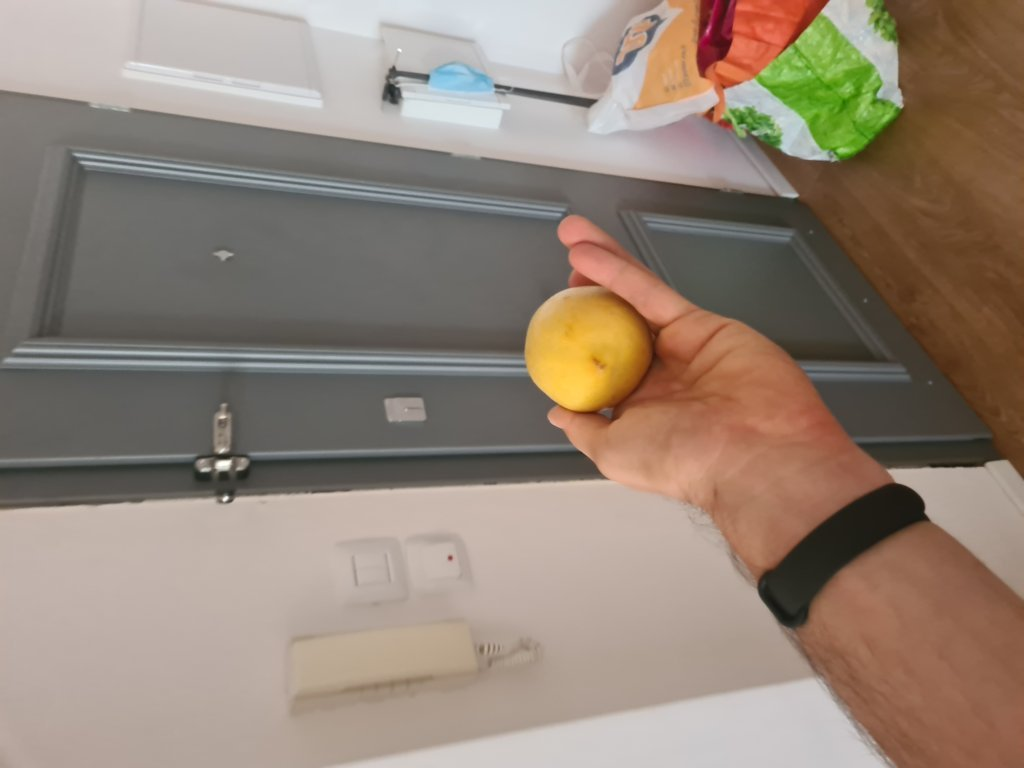lemon: (521, 284, 655, 406)
